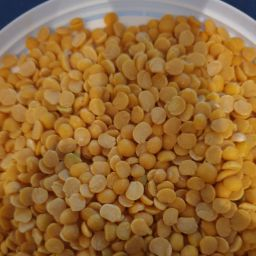Pigeon Pea(toor daal): (17, 9, 256, 256), (3, 46, 256, 256), (39, 83, 189, 196), (122, 64, 247, 195), (134, 125, 170, 176)
